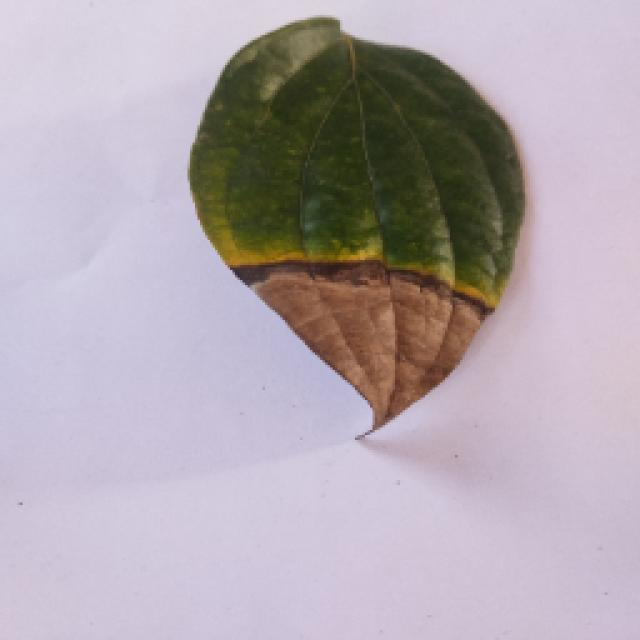footrot: (185, 10, 527, 438)
